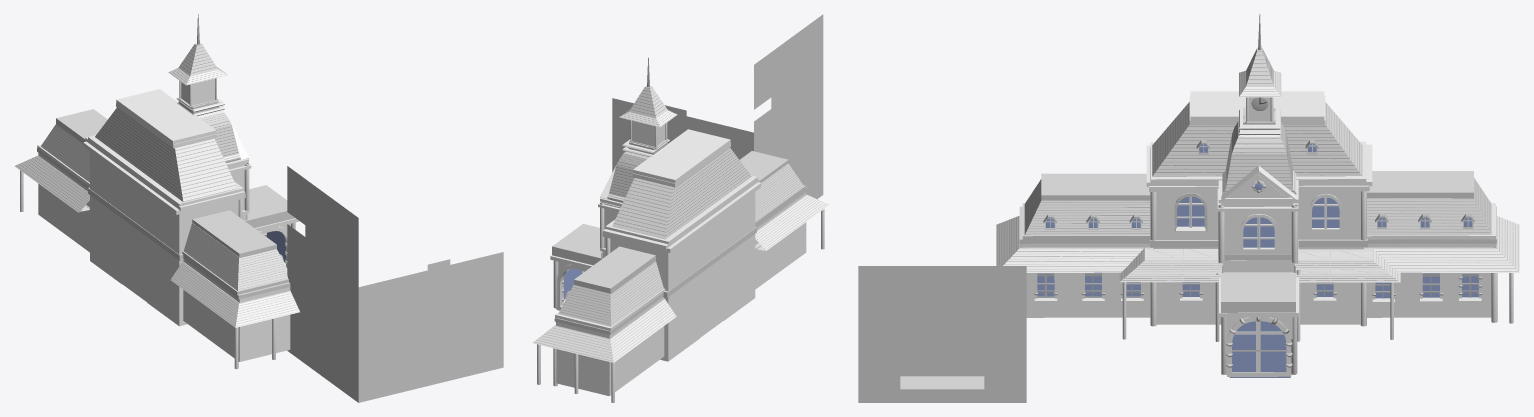
File: oldstation.glb
The picture shows the model from 3 angles, left to right: view 1: azimuth 30°, elevation 25°; view 2: azimuth 150°, elevation 25°; view 3: azimuth 270°, elevation 25°; orthographic projection. The views are drawn at different scales.
Visible parts, largest first — view 1: Cube.027, Cube.020, Cube.001, Cube.003, Cube.018, Cube.002, Cube.035, Cube, Cube.045, Cube.043, Cube.004, Cube.038 (+14 smaller); view 2: Cube.027, Cube.020, Cube.002, Cube.004, Cube.038, Cube.019, Cube.001, Cube, Cube.045, Cube.044, Cube.003, Cube.035 (+18 smaller); view 3: Cube.027, Cube.020, Cube.019, Cube.002, Cube.018, Cube.003, Cube.004, Cube.001, Cube.038, Cube.035, Cube.037, Cube.036 (+22 smaller).
Part boxes in pixels (x1,y1,x2,y2): Cube.027: (287,166,503,402); Cube.020: (95,108,238,205); Cube.001: (147,194,238,326); Cube.003: (183,260,290,361); Cube.018: (184,223,287,290); Cube.002: (90,152,122,284); Cube.035: (170,261,299,327); Cube: (121,174,147,301); Cube.045: (116,89,216,144); Cube.043: (192,210,276,258); Cube.004: (38,153,89,252); Cube.038: (14,155,89,212); Cube.027: (612,14,823,199); Cube.020: (612,147,751,239); Cube.002: (610,232,699,361); Cube.004: (556,297,664,396); Cube.038: (532,298,676,362); Cube.019: (558,261,663,326); Cube.001: (724,192,755,320); Cube: (698,212,727,337); Cube.045: (633,129,730,183); Cube.044: (574,246,655,294); Cube.003: (755,192,806,289); Cube.035: (755,194,829,250); Cube.027: (858,266,1026,402); Cube.020: (1150,102,1362,179); Cube.019: (1367,178,1491,235); Cube.002: (1298,191,1363,324); Cube.018: (1024,179,1150,235); Cube.003: (1019,243,1150,317); Cube.004: (1364,243,1496,317); Cube.001: (1153,191,1220,324); Cube.038: (1373,216,1519,272); Cube.035: (996,215,1143,272); Cube.037: (1295,247,1400,282); Cube.036: (1119,247,1222,282).
Bounding box in the file's own units: 4.51 × 5.5 × 10.41.
Materials: 9 (2 with a texture image).
